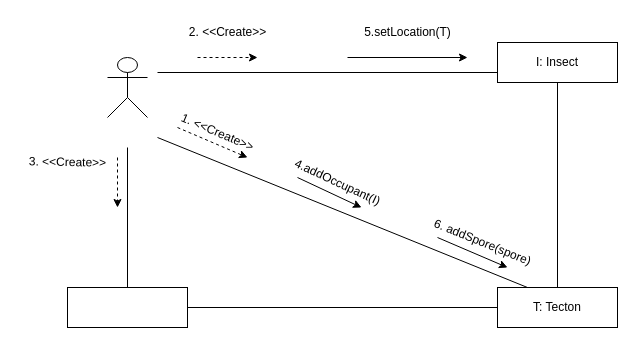
Some shapes in this 635 by 345 pixel diagram are drawn without their labels. The box of each missing label's shape, as (x1, y1, x2, y2) in pixels:
spore: Spore: (66, 286, 188, 328)
Tester: (106, 56, 148, 118)
